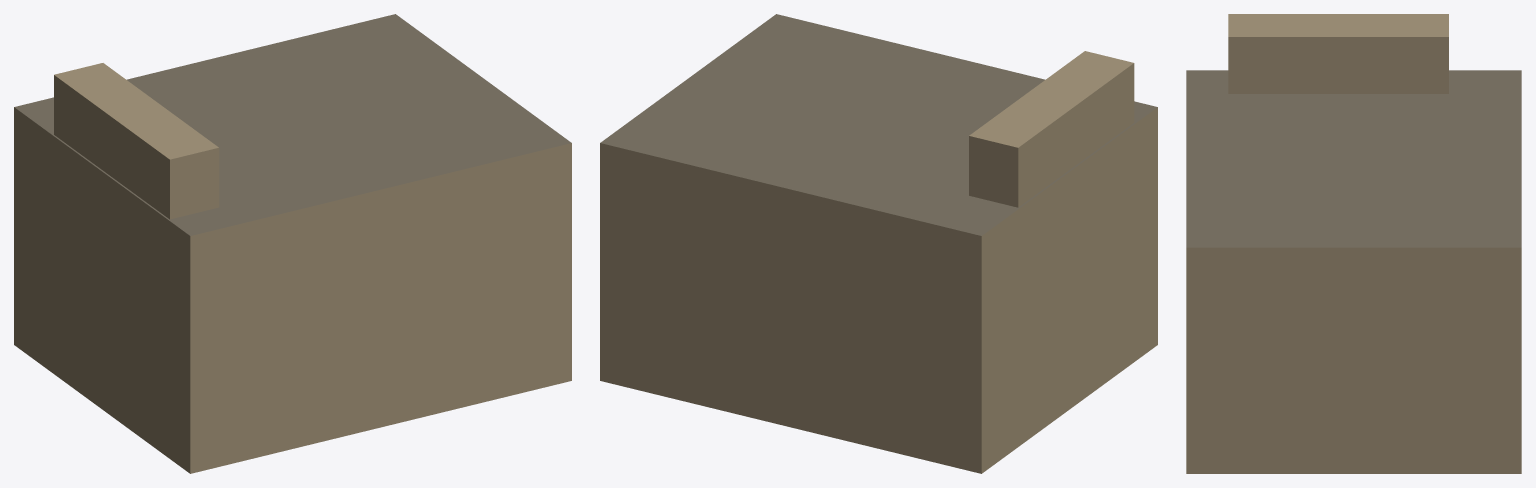
File: cr-desert-modern.towns-v1.lod2.glb
3 views of the same model, side by side, from view 1: azimuth 30°, elevation 25°; view 2: azimuth 150°, elevation 25°; view 3: azimuth 270°, elevation 25° (orthographic). The views are drawn at different scales.
Visible parts, largest first — view 1: cr-desert-modern; view 2: cr-desert-modern; view 3: cr-desert-modern.
Part boxes in pixels (<box>): cr-desert-modern: <box>14,14,571,473</box>; cr-desert-modern: <box>600,14,1157,473</box>; cr-desert-modern: <box>1186,14,1521,473</box>.
Size of the model in its own units: 12 by 8.95 by 9.6.
